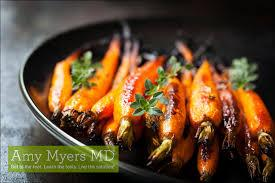Organic: (26, 23, 275, 165)
